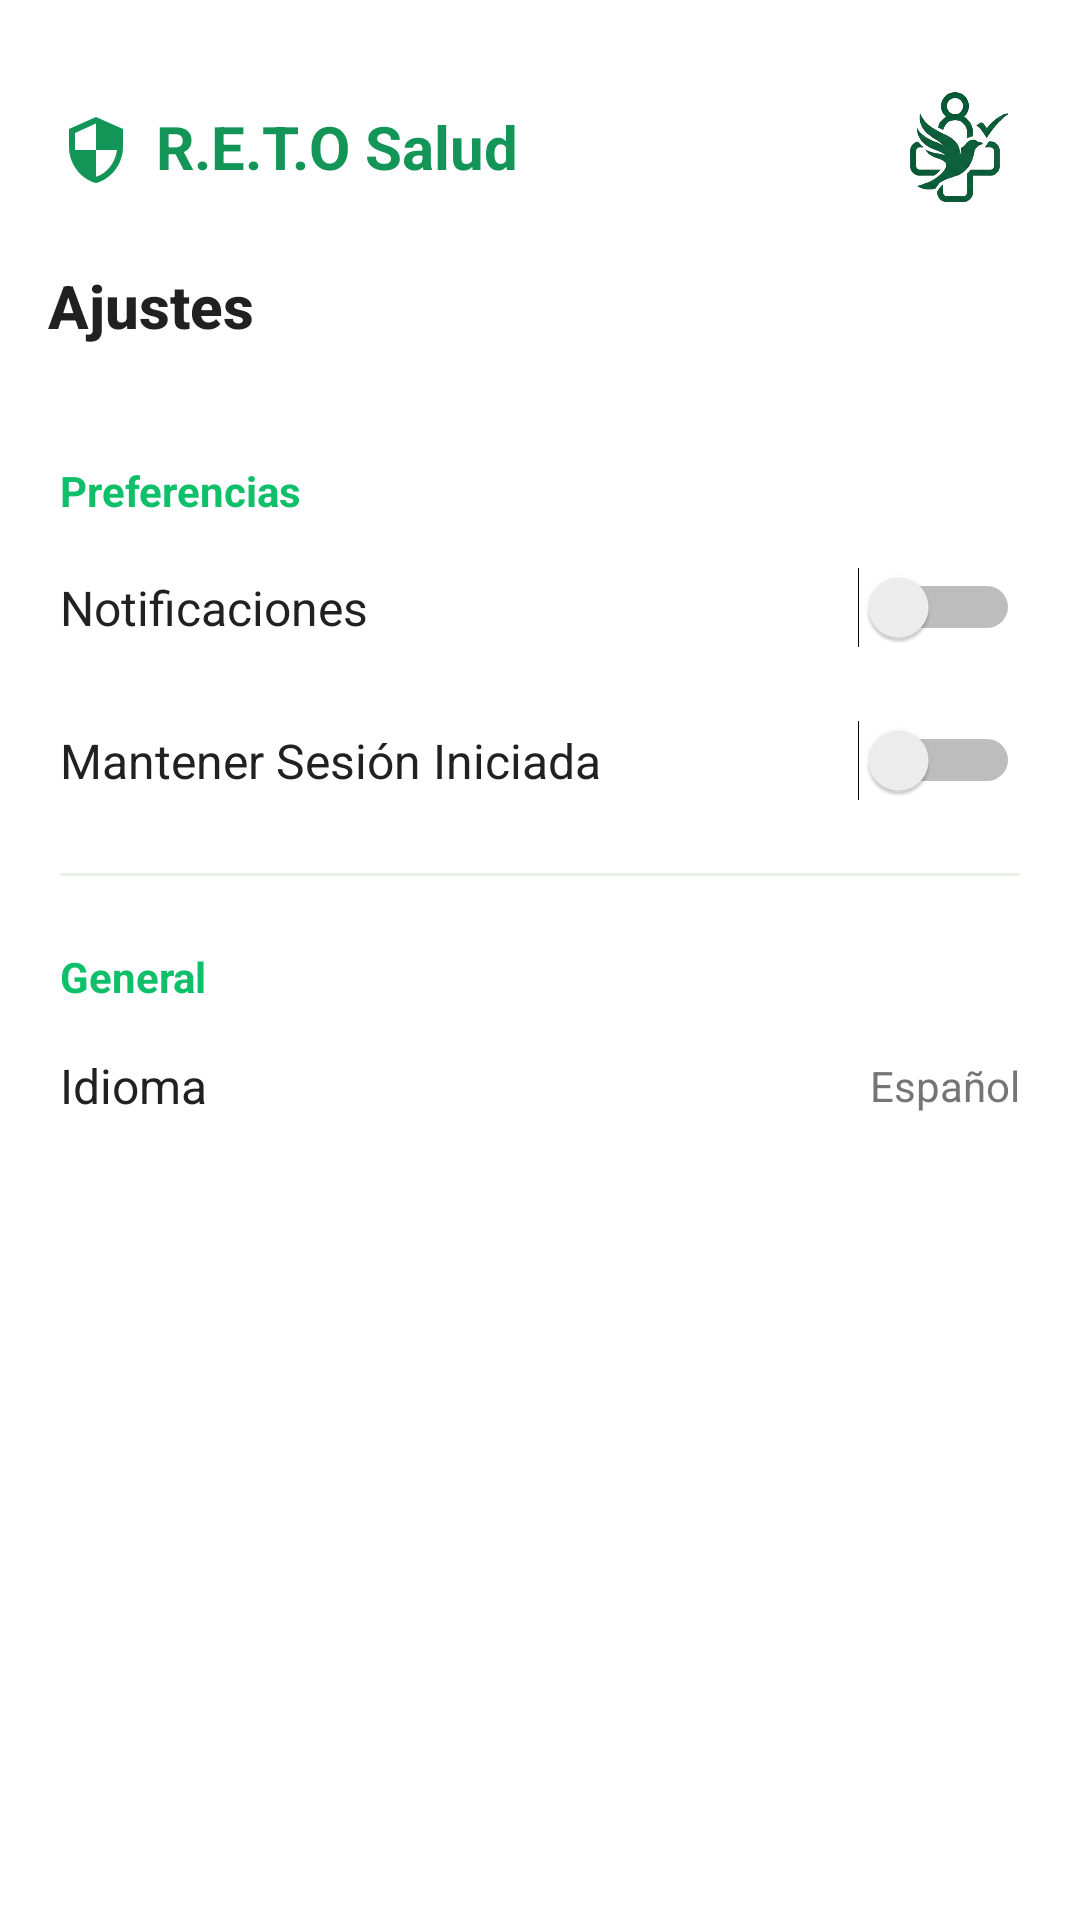

Point at icon controls on the screen. Image size 1080px x 1920px, points as (x,y).
shield: (96,150)
